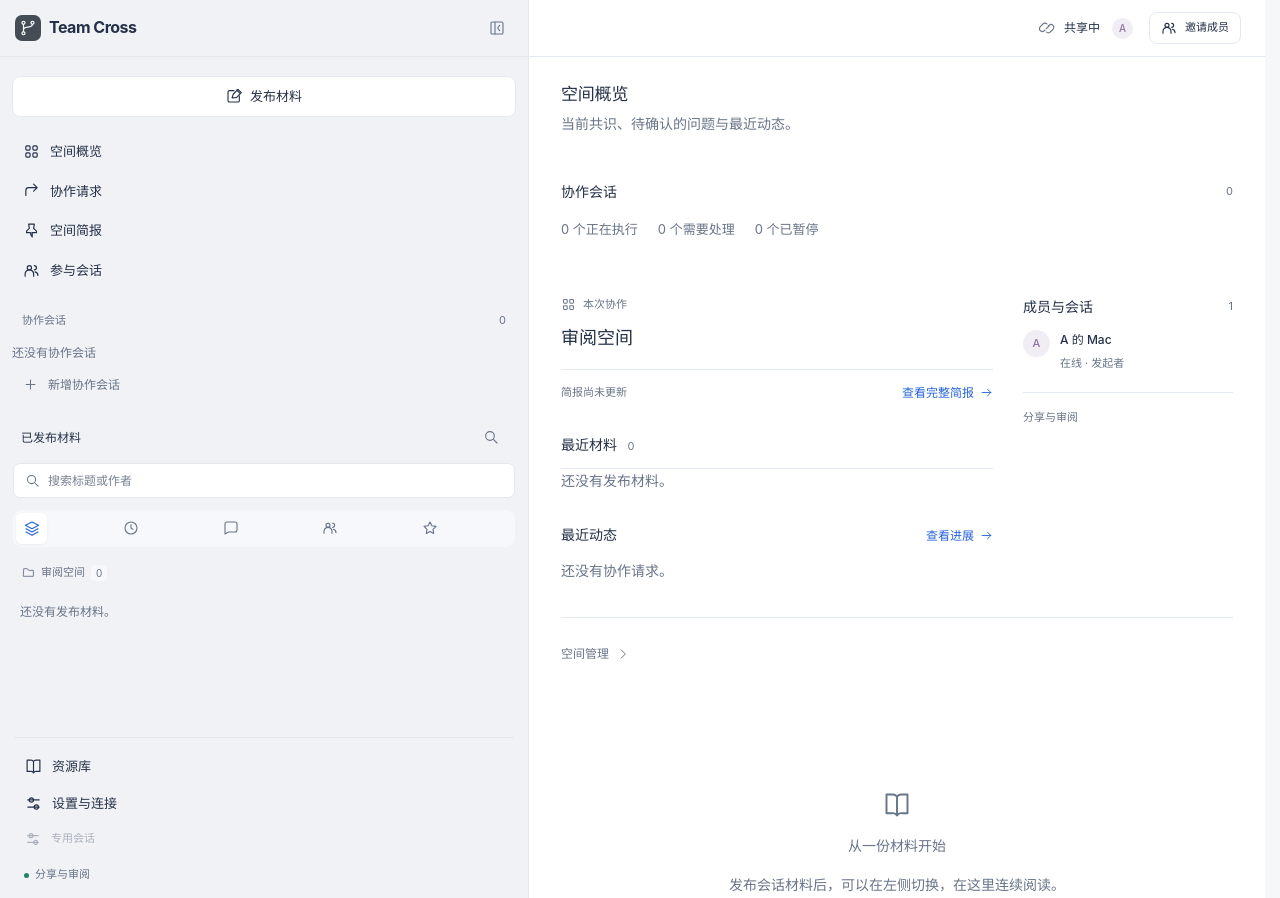
Test case: keeps one reusable invitation and separates link rotation and closure from ending the space
Step 1. Click the tab "空间概览" → (76, 151), box [12, 133, 516, 170]
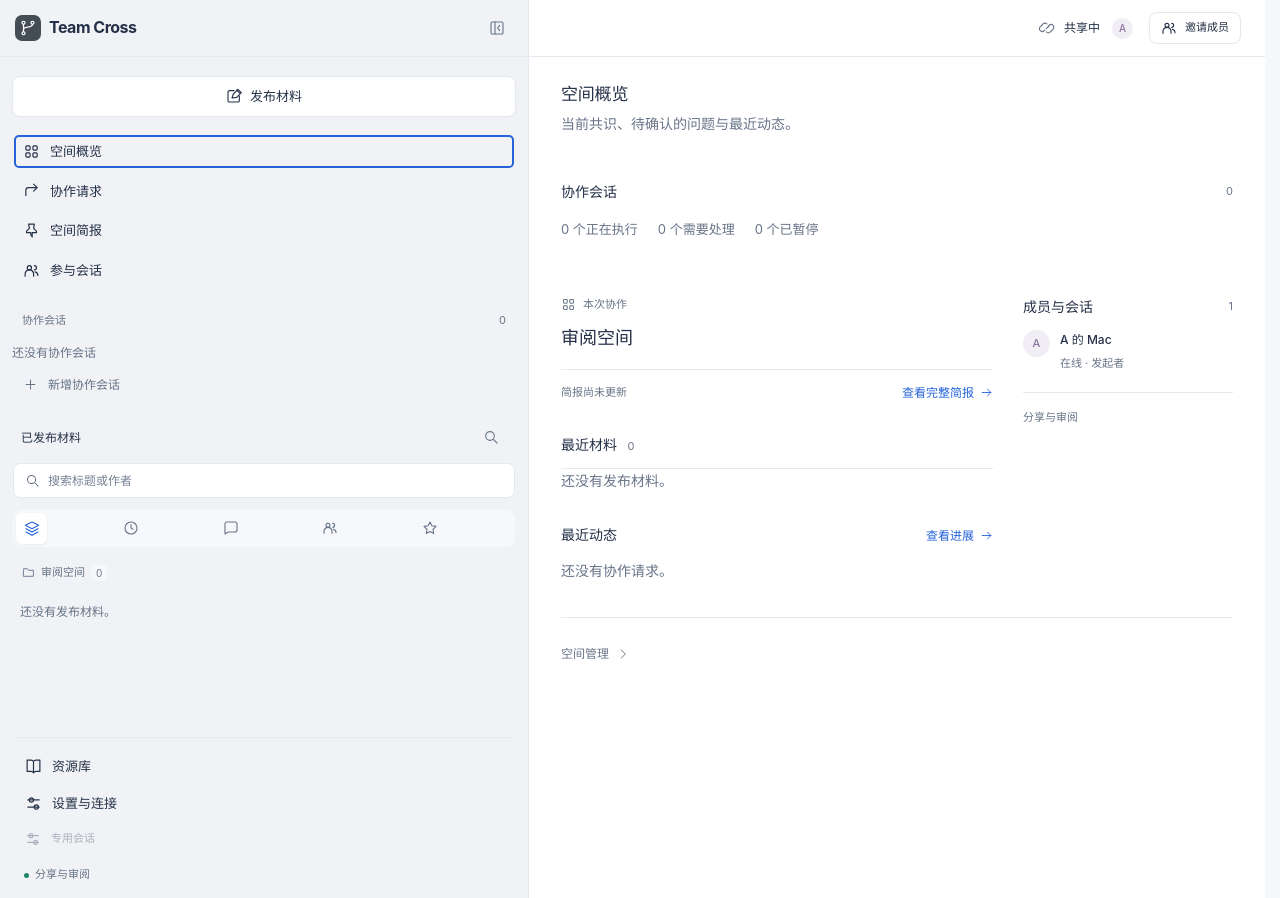
Step 2. Click the heading "空间管理" → (596, 654), box [561, 646, 630, 661]
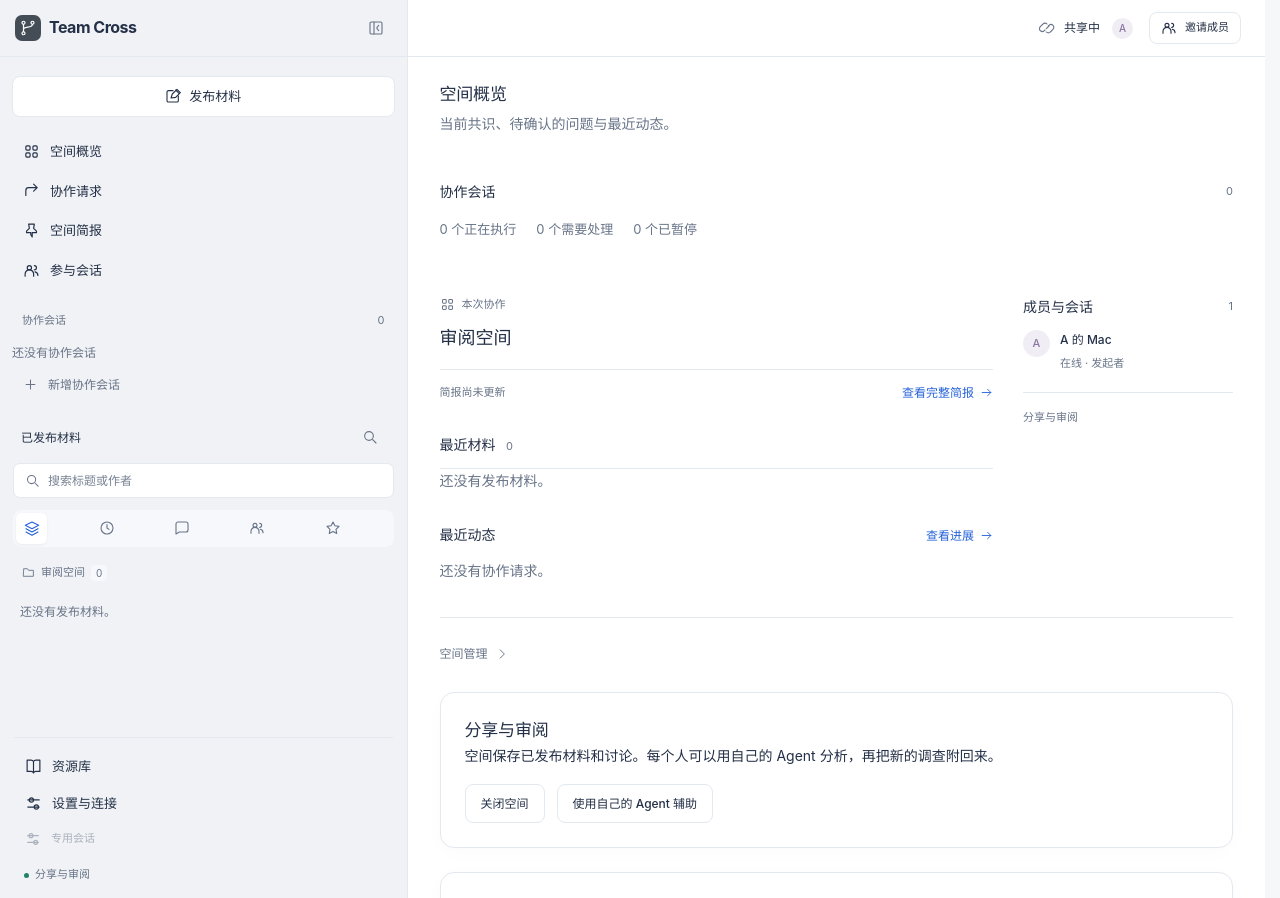
Step 3. Click the button "邀请成员" → (1195, 28), box [1149, 12, 1241, 44]
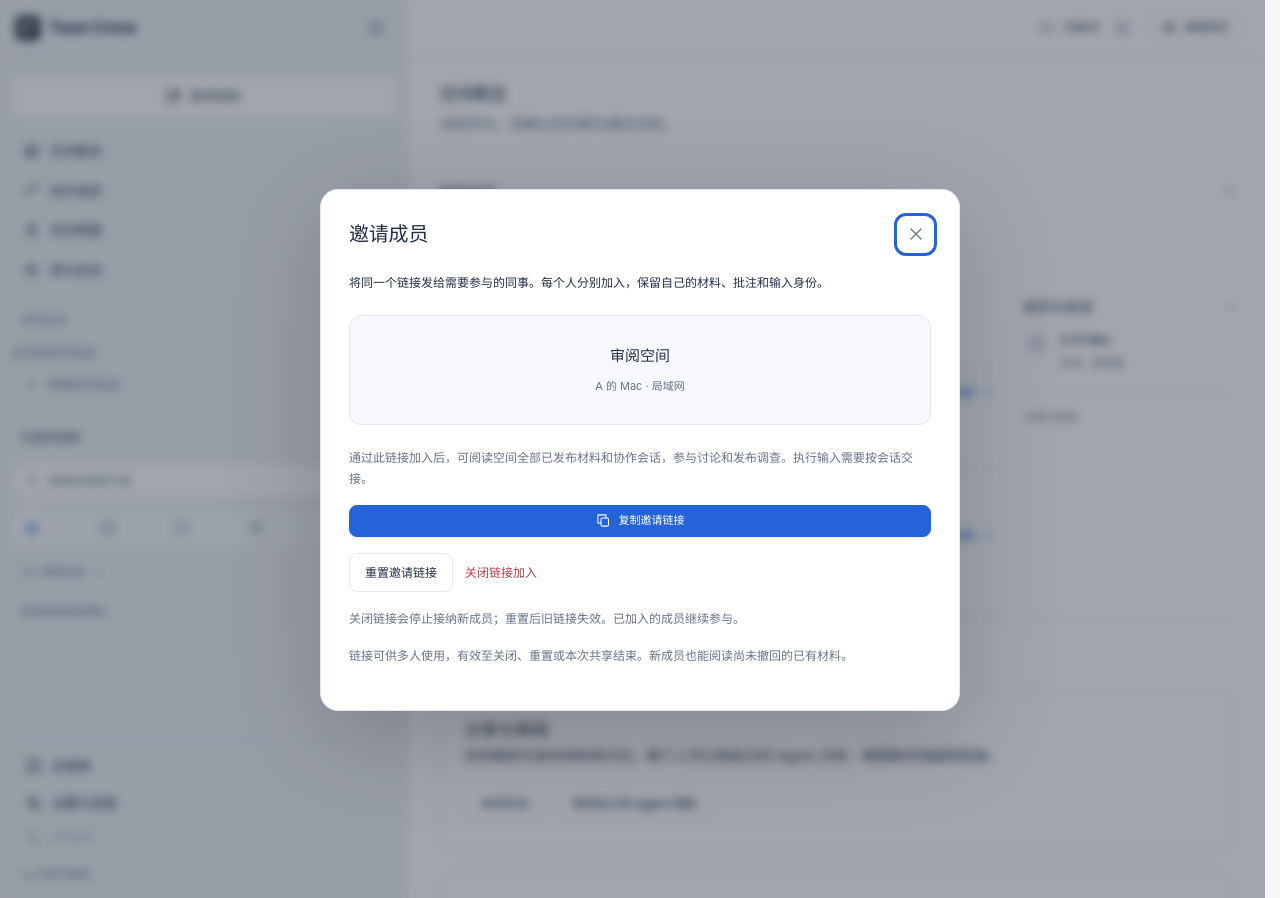
Check: the button "复制邀请链接" is shown, box [349, 505, 931, 536]
Step 4. Click the button "重置邀请链接" → (401, 572), box [349, 552, 453, 592]
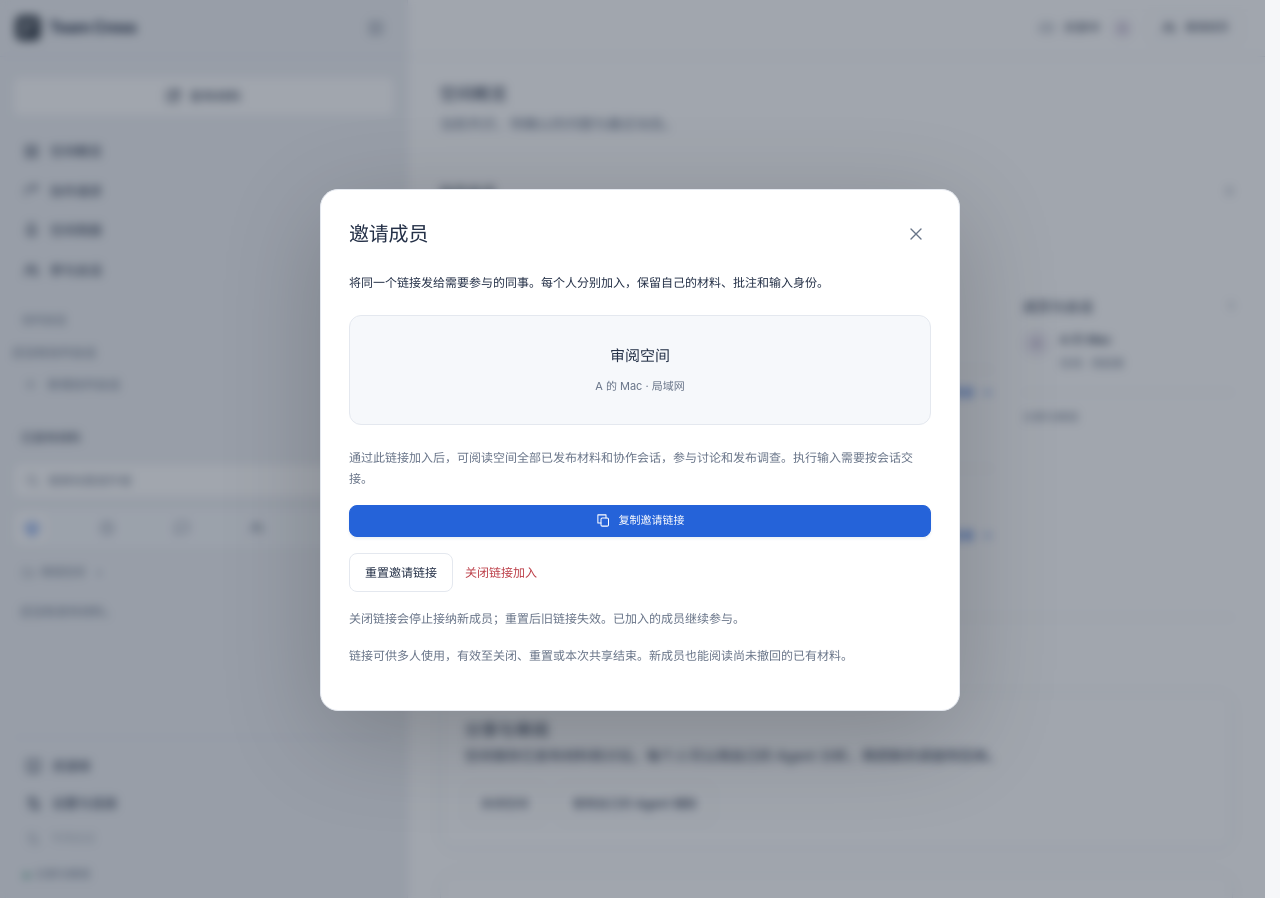
Step 5. Click the button "关闭链接加入" → (501, 572), box [465, 562, 537, 582]
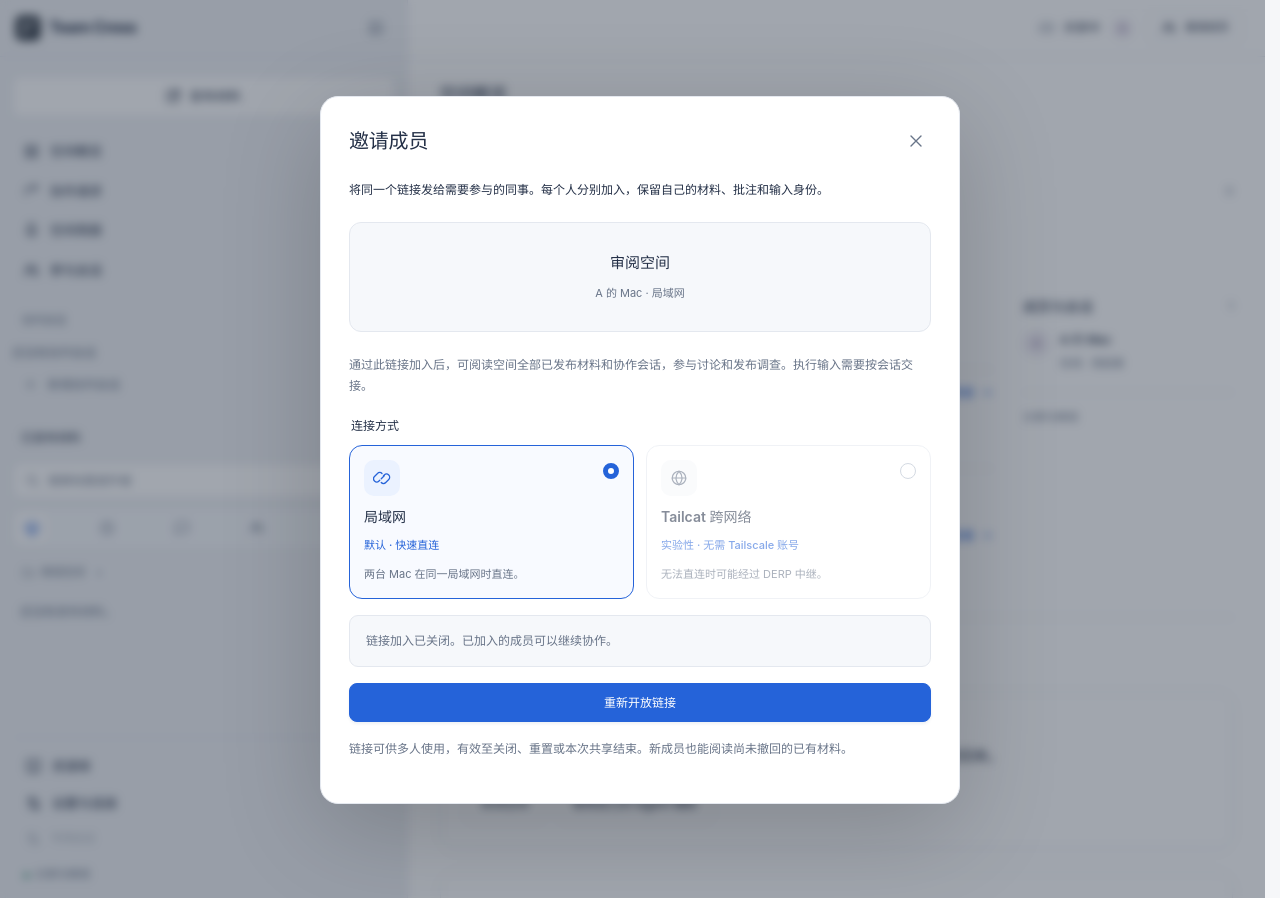
Check: the button "重新开放链接" is shown, box [349, 683, 931, 722]
